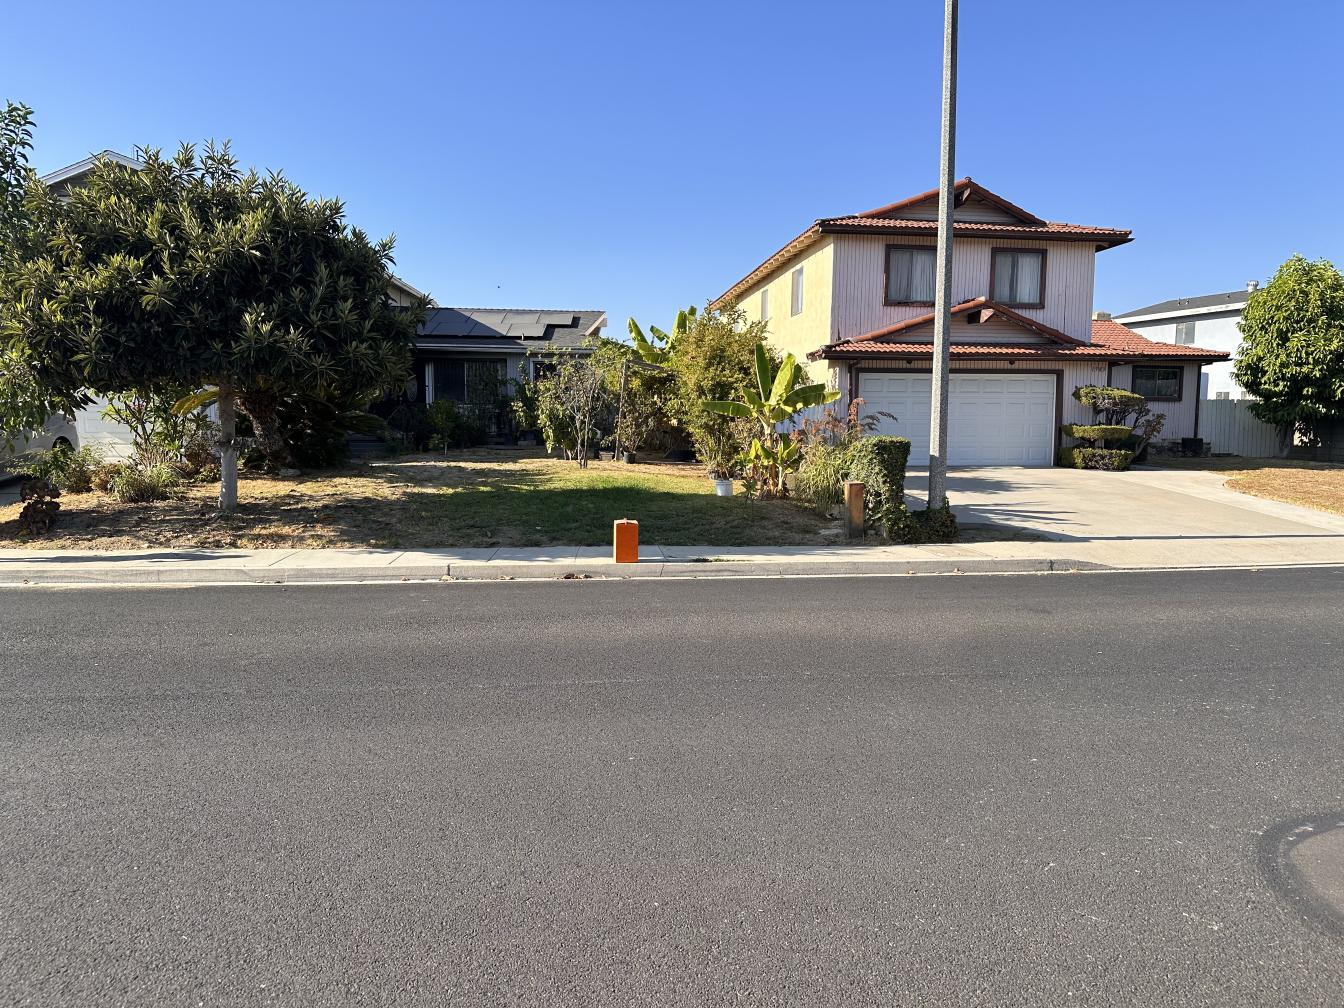curbs-laRr: (3, 560, 607, 578), (641, 554, 1064, 577)
orange box: (614, 519, 641, 563)
